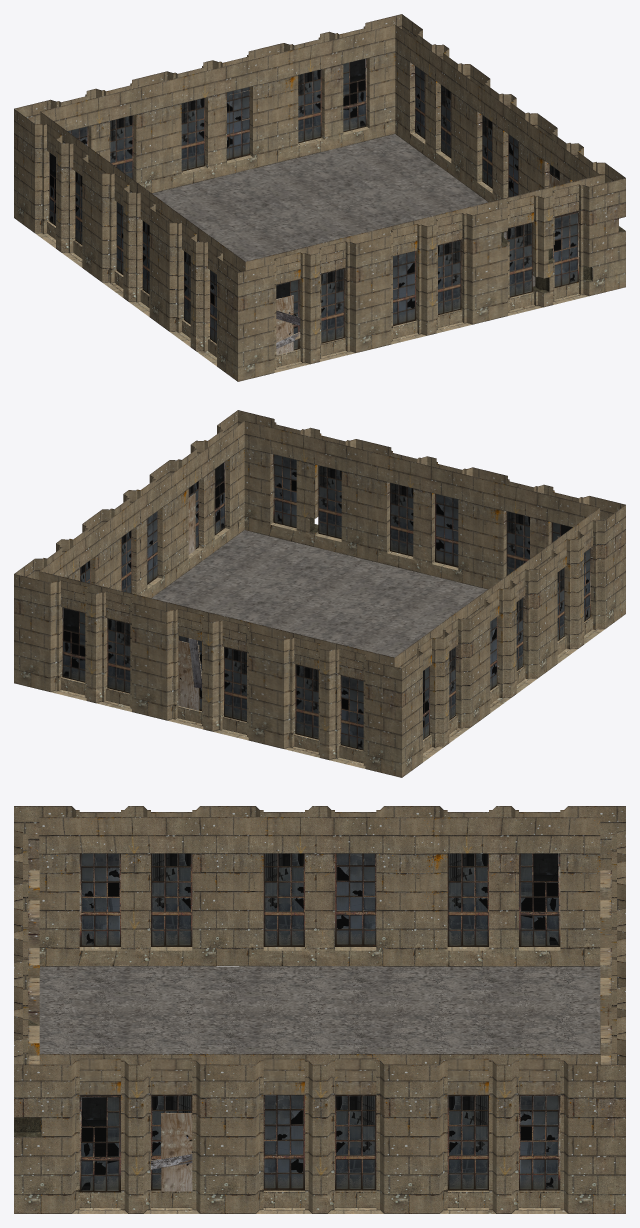
File: Build1_el3.fbx
3 views of the same model, one above another, from view 1: azimuth 30°, elevation 25°; view 2: azimuth 150°, elevation 25°; view 3: azimuth 270°, elevation 25° (orthographic). The views are drawn at different scales.
Visible parts, largest first — view 1: 2_floor; view 2: 2_floor; view 3: 2_floor.
Boxes of the visible parts, x1,y1,x2,y2 form: 2_floor: (14, 14, 625, 381); 2_floor: (14, 410, 625, 777); 2_floor: (14, 806, 625, 1213).
Size of the model in its own units: 14.15 by 3.97 by 14.15.
